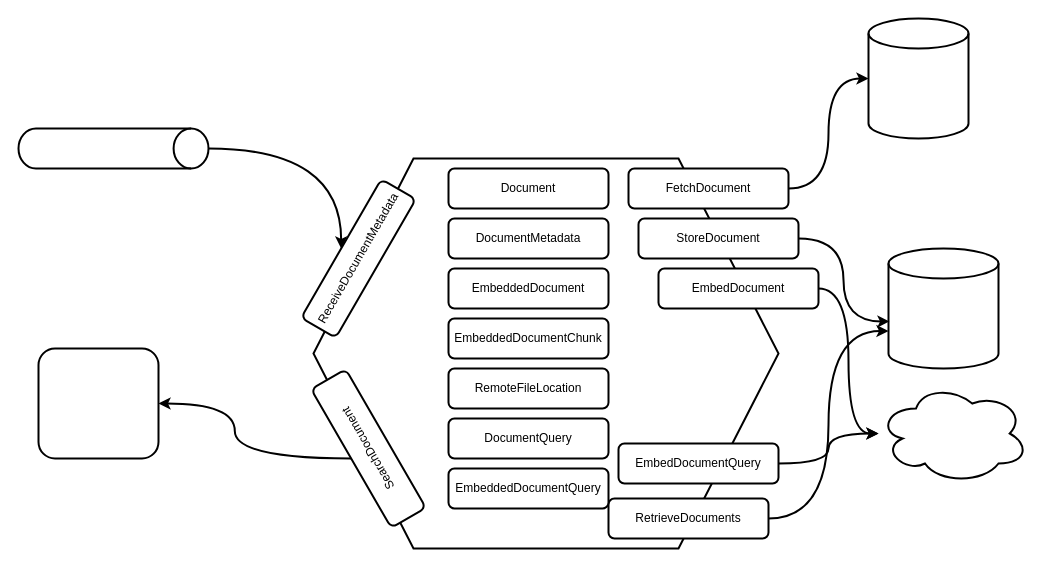
Some shapes in this 1046 by 566 pixel diagram are drawn without their labels. The centre of each missing label's shape, as x and y in pixels:
Embedding Service: the point at 953,433
Kafka topic: the point at 113,148
Primary Document Storage (S3): the point at 918,78
REST API: the point at 98,403
Vector Document Storage: the point at 943,308
